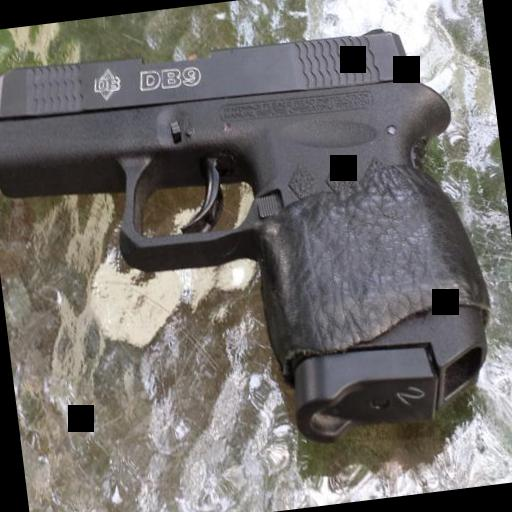Handgun: (0, 17, 493, 471)
